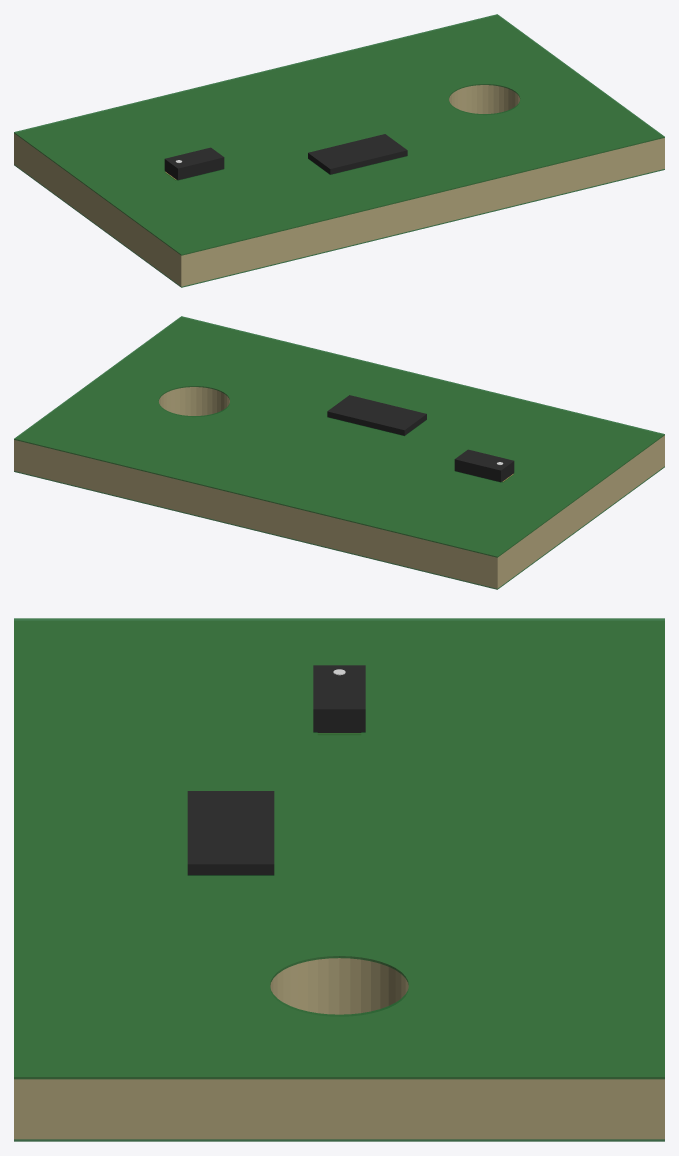
The model's file is pinless-package.glb.
The picture shows the model from 3 angles, top to bottom: view 1: azimuth 30°, elevation 25°; view 2: azimuth 150°, elevation 25°; view 3: azimuth 270°, elevation 25°; orthographic projection. The views are drawn at different scales.
Visible parts, largest first — view 1: layer/@soldermask-top, layer/@core, LOGO2, R1, layer/@soldermask-bottom; view 2: layer/@soldermask-top, layer/@core, LOGO2, R1, layer/@soldermask-bottom; view 3: layer/@soldermask-top, layer/@core, LOGO2, R1, layer/@soldermask-bottom.
Boxes of the visible parts, x1,y1,x2,y2 form: layer/@soldermask-top: (14, 14, 664, 255); layer/@core: (14, 16, 664, 286); LOGO2: (308, 134, 407, 174); R1: (164, 147, 224, 180); layer/@soldermask-bottom: (14, 164, 664, 287); layer/@soldermask-top: (14, 316, 664, 557); layer/@core: (14, 318, 664, 588); LOGO2: (327, 395, 426, 435); R1: (454, 449, 514, 482); layer/@soldermask-bottom: (14, 466, 664, 589); layer/@soldermask-top: (14, 618, 664, 1079); layer/@core: (14, 621, 664, 1139); LOGO2: (187, 791, 274, 875); R1: (313, 665, 365, 732); layer/@soldermask-bottom: (14, 1139, 664, 1141).
Bounding box in the file's own units: 0.025 × 0.00224 × 0.015.
